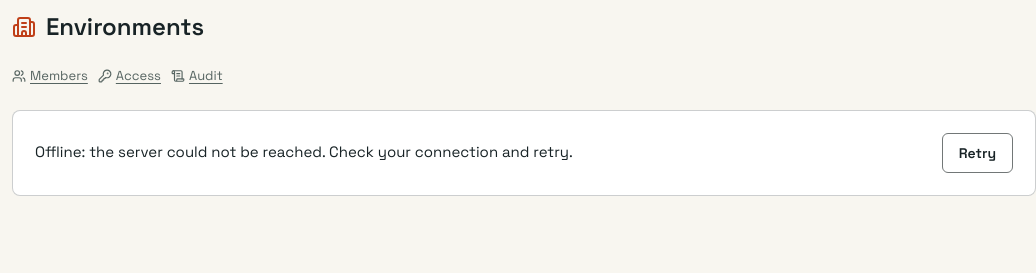
shows the offline state with retry, then recovers
expect the message shows "Offline": met, box [35,142,573,161]
Click the button "Retry".
click(977, 152)  # box [942,132,1013,172]
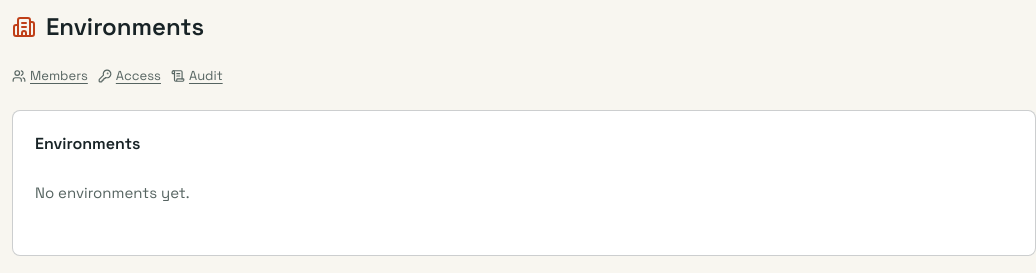
expect the 1st heading "Environments" is shown: met, box [12,11,204,42]
expect the text "No environments yet." is shown: met, box [35,183,189,202]
